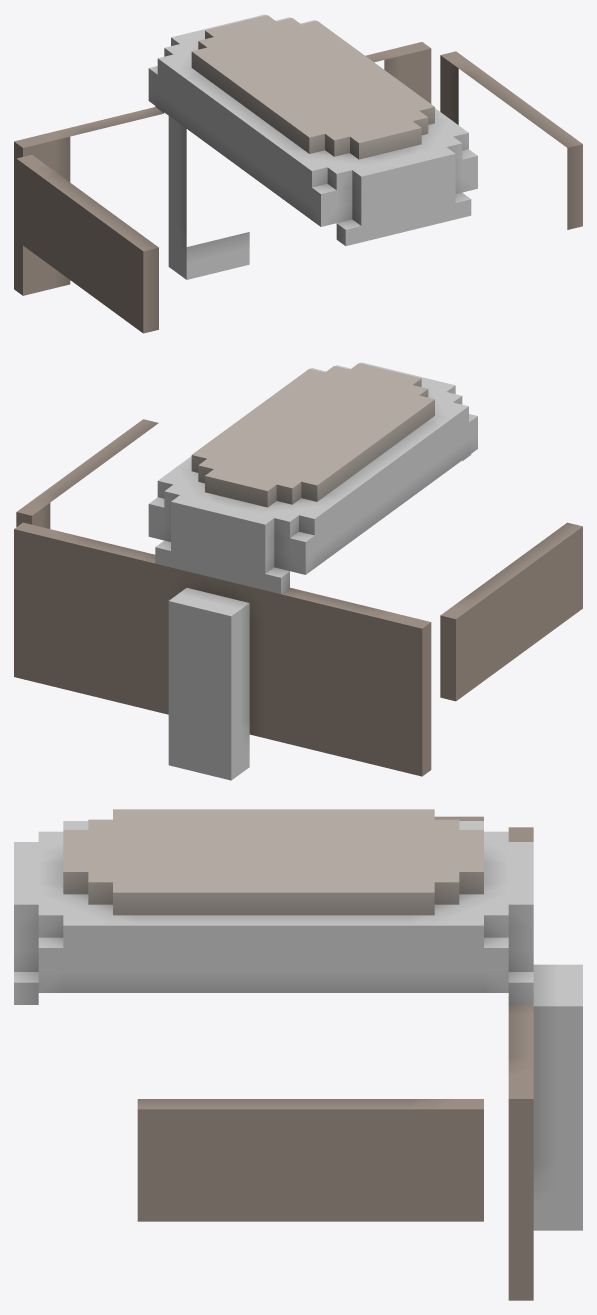
Rendered from hair_f_shaved_sides.glb.
3 renders of one model, top to bottom at view 1: azimuth 30°, elevation 25°; view 2: azimuth 150°, elevation 25°; view 3: azimuth 270°, elevation 25°, orthographic. The views are drawn at different scales.
Visible parts, largest first — view 1: VoxelVisual; view 2: VoxelVisual; view 3: VoxelVisual.
Part boxes in pixels (bbox=[...]): VoxelVisual: bbox=[14, 14, 582, 333]; VoxelVisual: bbox=[14, 362, 582, 780]; VoxelVisual: bbox=[14, 809, 582, 1300].
Size of what is drawn, in the model's own units: 1.75 by 1 by 1.44.
